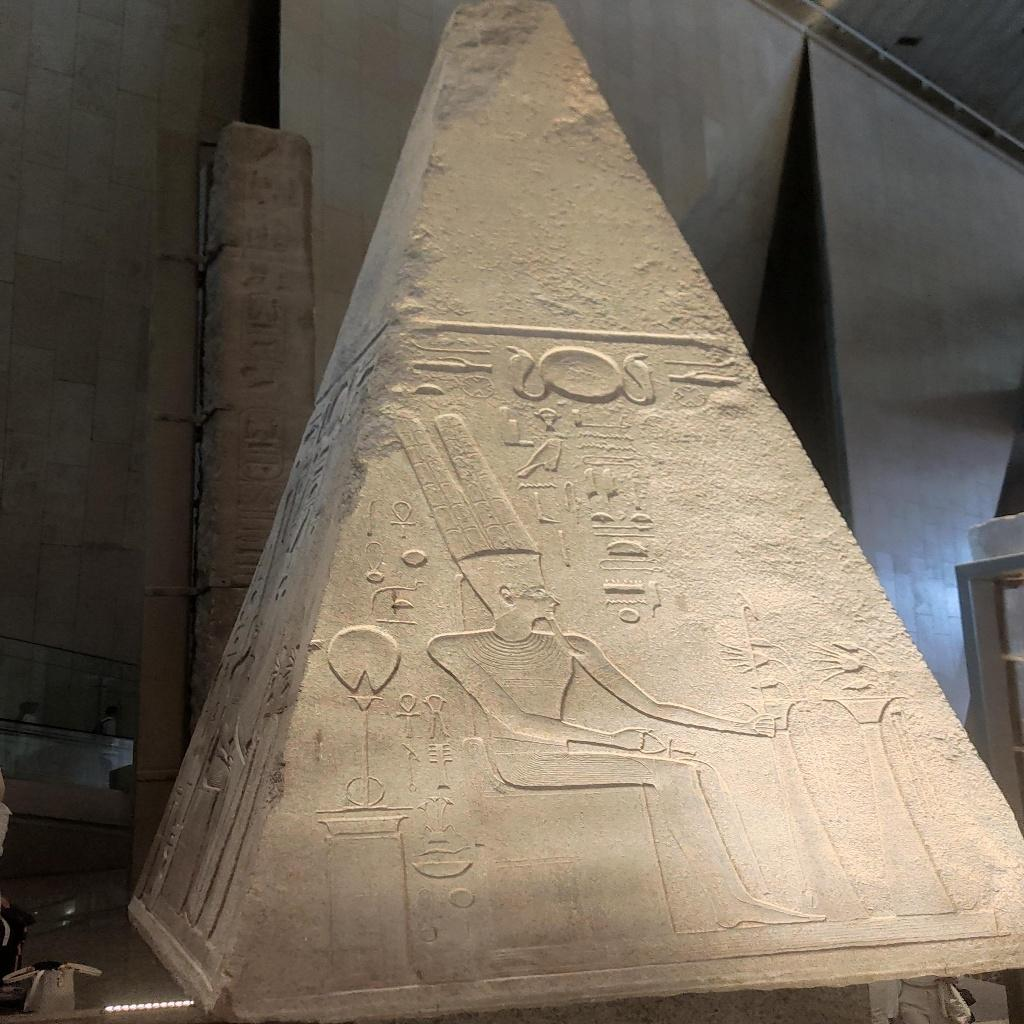Obelsik Tip of Hatshepsut: (119, 2, 1024, 1016)
